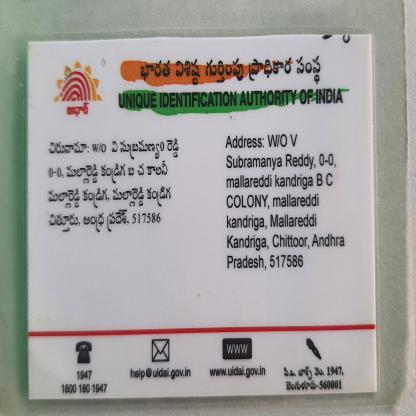aadhaar_card: (22, 38, 384, 402)
